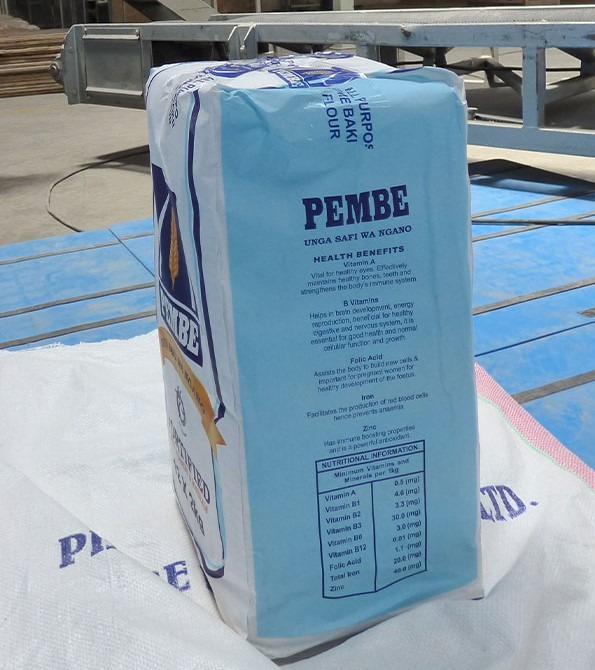wheat_flour_blue_label: (150, 53, 468, 654)
